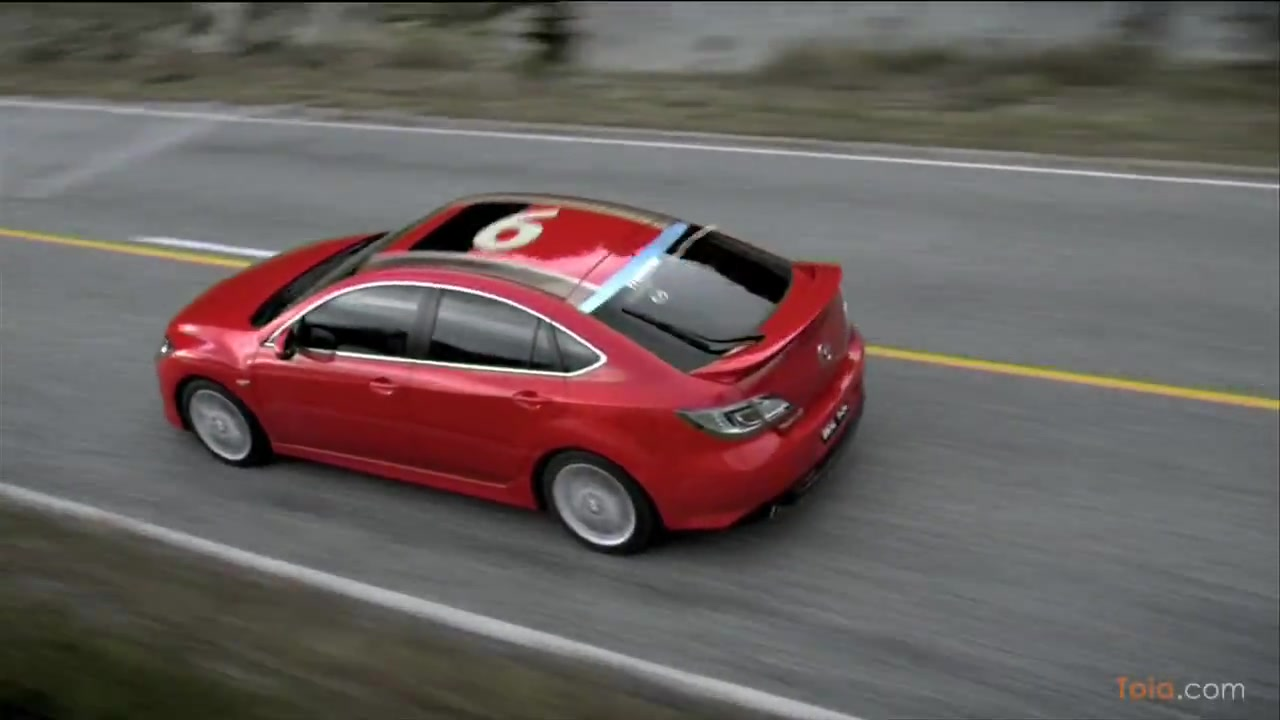car: (159, 194, 874, 556)
